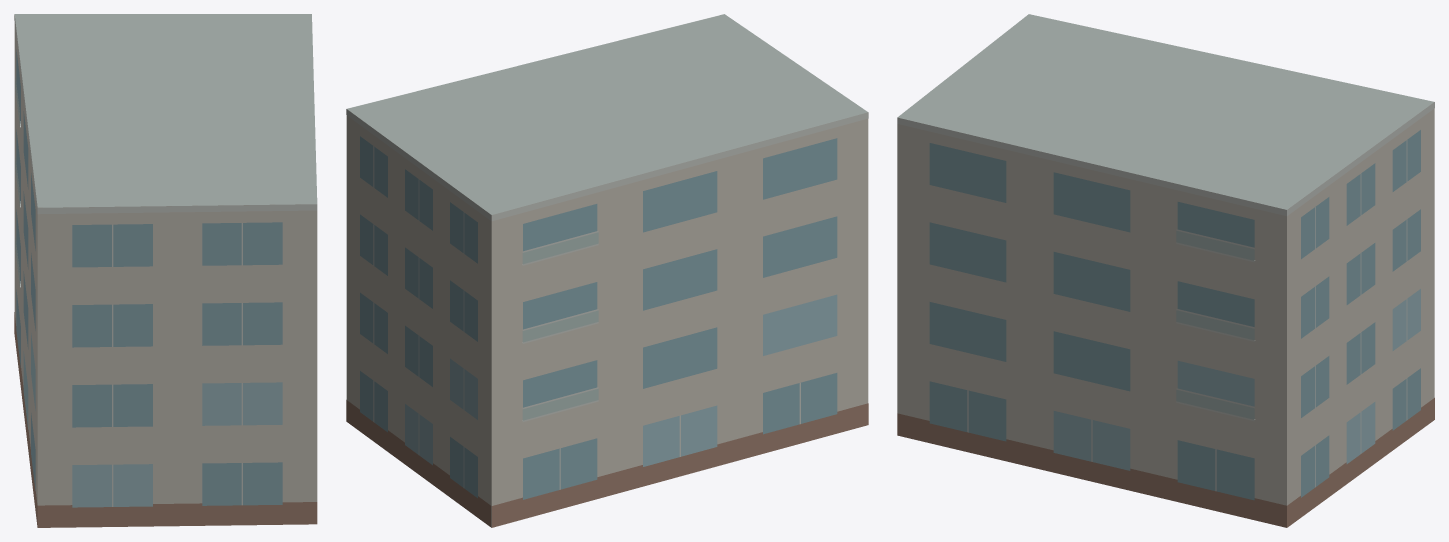
The model's file is survey-upis-32943292.glb.
The picture shows the model from 3 angles, left to right: view 1: azimuth 30°, elevation 25°; view 2: azimuth 150°, elevation 25°; view 3: azimuth 270°, elevation 25°; orthographic projection. The views are drawn at different scales.
Parts seen in each view (by area): view 1: survey-upis-32943292.tmp; view 2: survey-upis-32943292.tmp; view 3: survey-upis-32943292.tmp.
Boxes of the visible parts, <box> form: survey-upis-32943292.tmp: <box>14,14,317,527</box>; survey-upis-32943292.tmp: <box>346,14,868,527</box>; survey-upis-32943292.tmp: <box>897,14,1434,527</box>.
Size of the model in its own units: 16.13 by 12.2 by 18.7.
